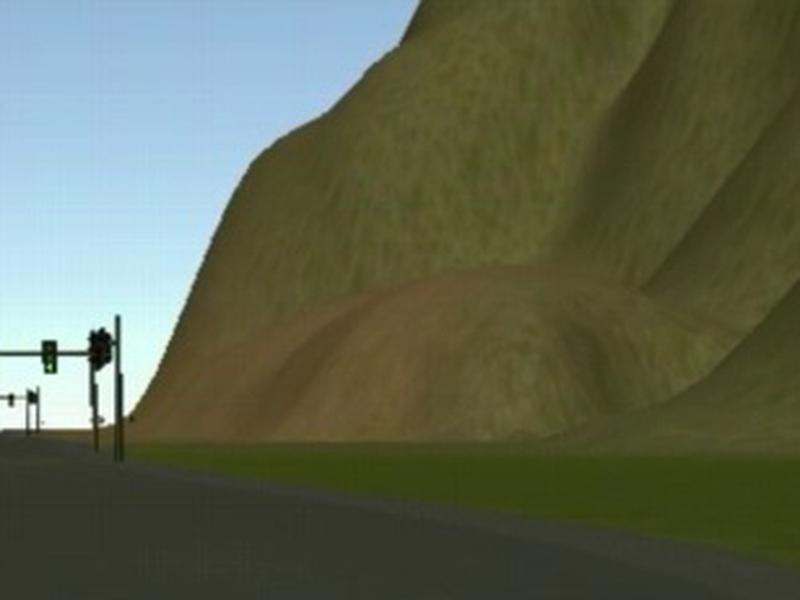Green: (41, 339, 57, 374)
